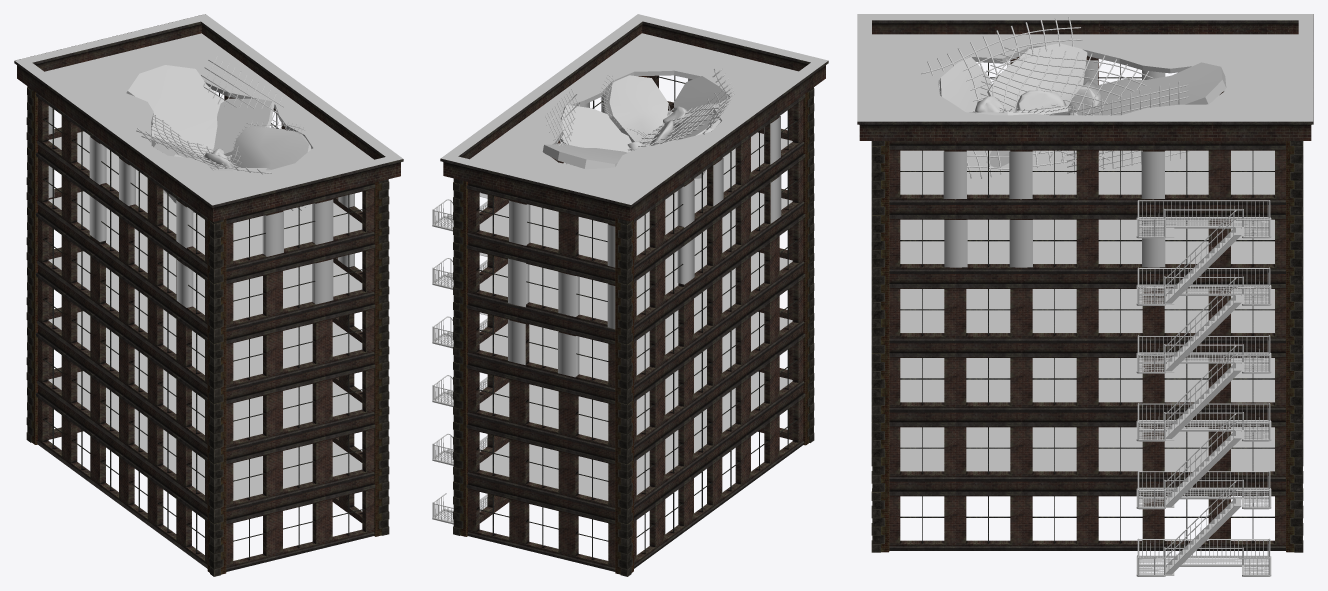
File: BuildingRedSm03_stairs.fbx
3 renders of one model, left to right at view 1: azimuth 30°, elevation 25°; view 2: azimuth 150°, elevation 25°; view 3: azimuth 270°, elevation 25°, orthographic. The views are drawn at different scales.
Visible parts, largest first — view 1: Plane.078, Cube.433, Cube.432, Cube.457, Cube.458, Cube.456, Cube.435, Cube.437, Cube.454, Cube.451, Cube.452, Cube.455 (+2 smaller); view 2: Plane.078, Cube.433, Cube.432, Cube.548, Cube.437, Cube.449, Cube.444, Cube.446, Cube.448, Cube.447, Cube.454, Cube.455 (+2 smaller); view 3: Plane.078, Cube.433, Cube.432, Cube.548, Cube.437, Cube.436, Cube.435, Cube.439, Cube.441, Cube.442, Cube.443, Cube.440 (+1 smaller).
Part boxes in pixels (x1,y1,x2,y2): Plane.078: [26, 86, 389, 576]; Cube.433: [45, 33, 373, 212]; Cube.432: [14, 14, 403, 221]; Cube.457: [312, 199, 333, 244]; Cube.458: [312, 259, 333, 304]; Cube.456: [262, 211, 283, 256]; Cube.435: [201, 56, 283, 160]; Cube.437: [151, 115, 240, 168]; Cube.454: [89, 136, 106, 184]; Cube.451: [176, 259, 193, 307]; Cube.452: [176, 200, 193, 248]; Cube.455: [89, 196, 106, 241]; Plane.078: [453, 75, 814, 576]; Cube.433: [463, 33, 798, 204]; Cube.432: [440, 14, 828, 221]; Cube.548: [432, 192, 487, 524]; Cube.437: [627, 102, 719, 152]; Cube.449: [508, 258, 529, 307]; Cube.444: [558, 272, 579, 316]; Cube.446: [509, 200, 530, 245]; Cube.448: [558, 332, 579, 377]; Cube.447: [508, 319, 525, 364]; Cube.454: [677, 179, 694, 227]; Cube.455: [677, 238, 694, 284]; Plane.078: [871, 56, 1303, 552]; Cube.433: [872, 34, 1298, 167]; Cube.432: [857, 14, 1313, 140]; Cube.548: [1136, 200, 1271, 576]; Cube.437: [980, 43, 1153, 168]; Cube.436: [921, 17, 1100, 178]; Cube.435: [1066, 81, 1188, 173]; Cube.439: [1141, 150, 1164, 199]; Cube.441: [1009, 150, 1032, 199]; Cube.442: [944, 219, 967, 267]; Cube.443: [943, 150, 966, 199]; Cube.440: [1009, 220, 1032, 267].
Size of what is drawn, in the model's own units: 1556 by 2676 by 2440.
